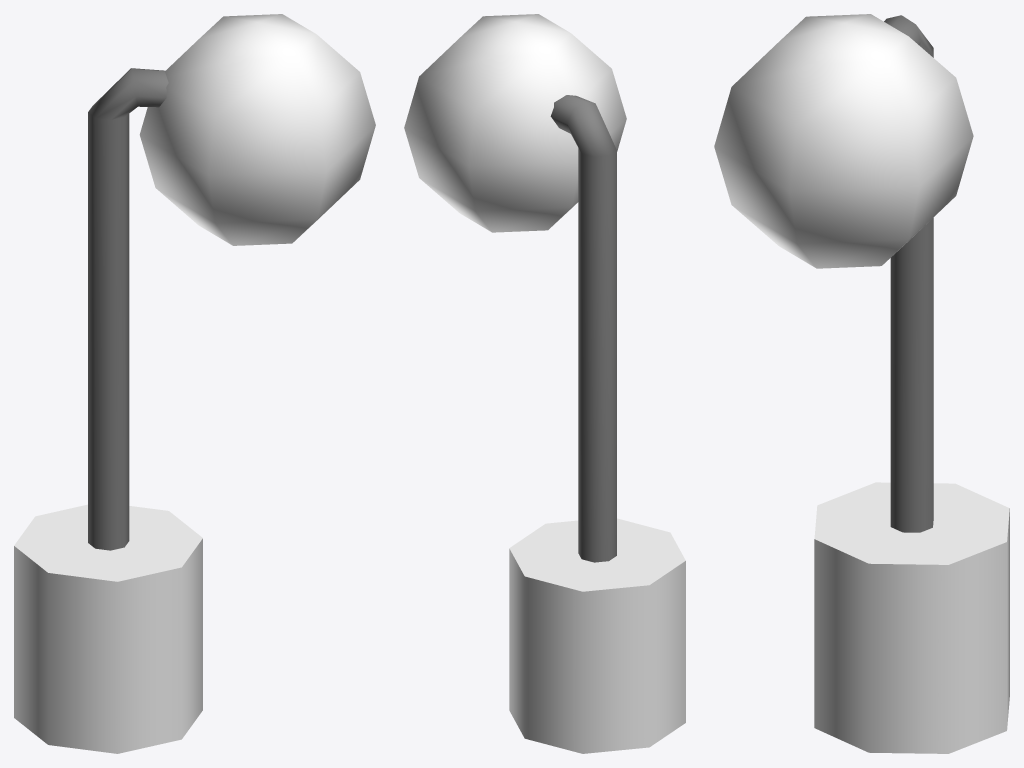
File: lamp.glb
3 views of the same model, side by side, from view 1: azimuth 30°, elevation 25°; view 2: azimuth 150°, elevation 25°; view 3: azimuth 270°, elevation 25° (orthographic). The views are drawn at different scales.
Visible parts, largest first — view 1: Lamp_Base_lambert3_0, pSphere1_lambert3_0, Lamp_Neck_lambert3_0; view 2: Lamp_Base_lambert3_0, pSphere1_lambert3_0, Lamp_Neck_lambert3_0; view 3: pSphere1_lambert3_0, Lamp_Base_lambert3_0, Lamp_Neck_lambert3_0.
Part boxes in pixels (bbox=[...]): Lamp_Base_lambert3_0: bbox=[14, 504, 202, 753]; pSphere1_lambert3_0: bbox=[139, 14, 375, 245]; Lamp_Neck_lambert3_0: bbox=[88, 68, 168, 550]; Lamp_Base_lambert3_0: bbox=[509, 518, 685, 753]; pSphere1_lambert3_0: bbox=[404, 14, 626, 232]; Lamp_Neck_lambert3_0: bbox=[550, 95, 616, 562]; pSphere1_lambert3_0: bbox=[714, 14, 973, 268]; Lamp_Base_lambert3_0: bbox=[814, 482, 1009, 753]; Lamp_Neck_lambert3_0: bbox=[884, 15, 933, 532].
Size of the model in its own units: 0.2809 by 0.6372 by 0.2268.
Materials: 1 (1 with a texture image).
